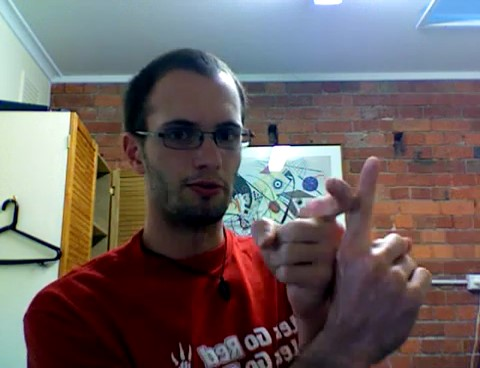K: (245, 151, 436, 353)
